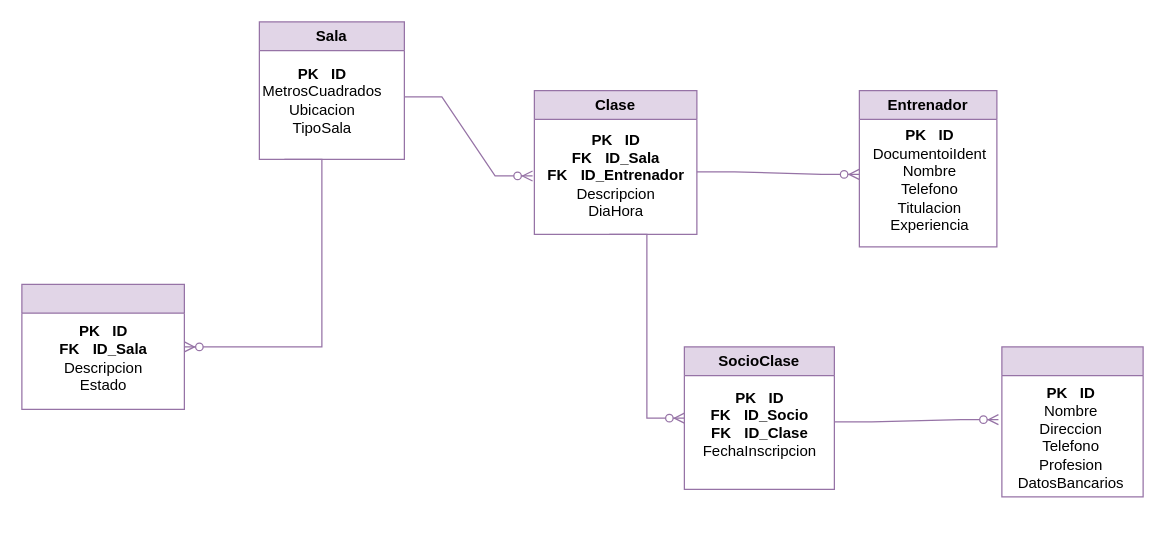
The diagram is 1165 pixels wide and 538 high, and some of its shapes have lost their labels. Each missing label, with the box of its shape:
Aparato: (21, 283, 184, 409)
Socio: (1001, 346, 1143, 497)
